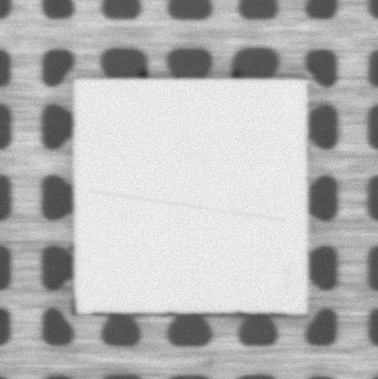DIE_CRACK: (90, 192, 284, 221)
